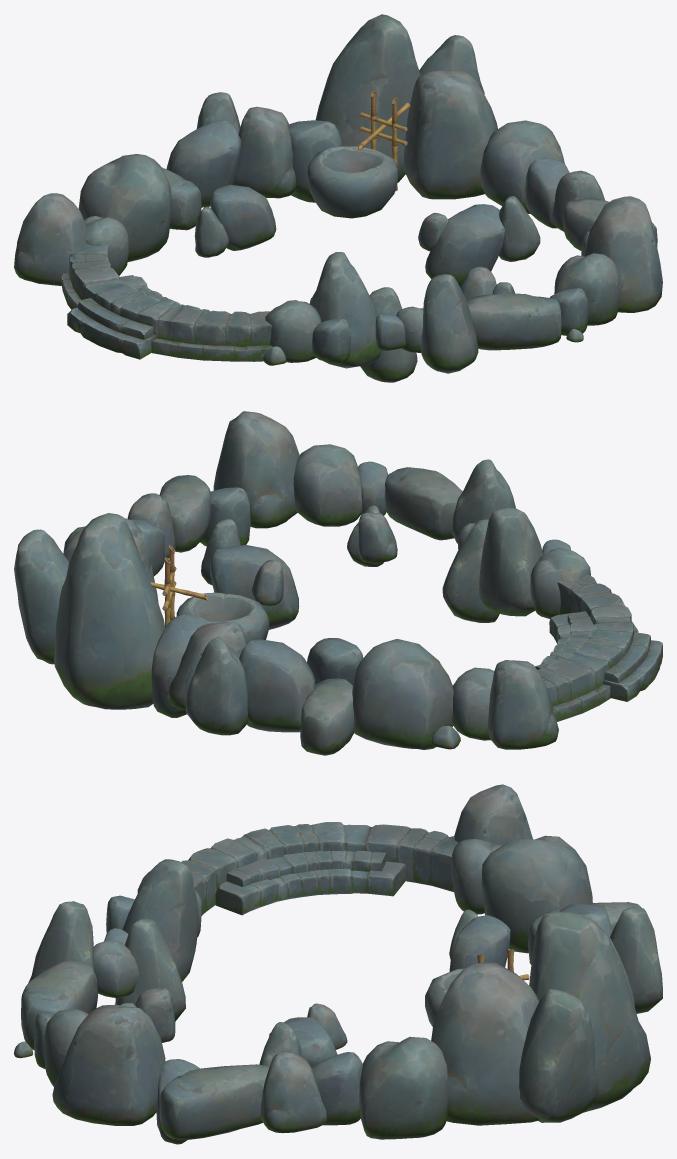
Rendered from Homeworld_Exterior_Common_Thing_Wenquan_01_A_Lod0.fbx.
The picture shows the model from 3 angles, top to bottom: view 1: azimuth 30°, elevation 25°; view 2: azimuth 150°, elevation 25°; view 3: azimuth 270°, elevation 25°; orthographic projection. The views are drawn at different scales.
Parts seen in each view (by area): view 1: Homeworld_Exterior_Common_Thing_Wenquan_01_A_Lod0; view 2: Homeworld_Exterior_Common_Thing_Wenquan_01_A_Lod0; view 3: Homeworld_Exterior_Common_Thing_Wenquan_01_A_Lod0.
Boxes of the visible parts, <box> form: Homeworld_Exterior_Common_Thing_Wenquan_01_A_Lod0: <box>14,14,662,382</box>; Homeworld_Exterior_Common_Thing_Wenquan_01_A_Lod0: <box>14,411,662,755</box>; Homeworld_Exterior_Common_Thing_Wenquan_01_A_Lod0: <box>14,784,662,1144</box>.
Size of the model in its own units: 21.27 by 7.31 by 19.79.
